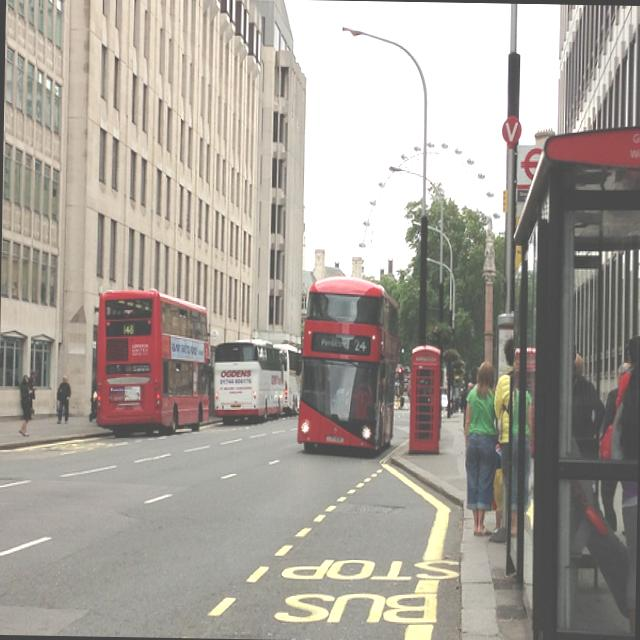Vehicle: (95, 289, 211, 444), (300, 274, 397, 453), (212, 337, 286, 428), (274, 343, 299, 415)
